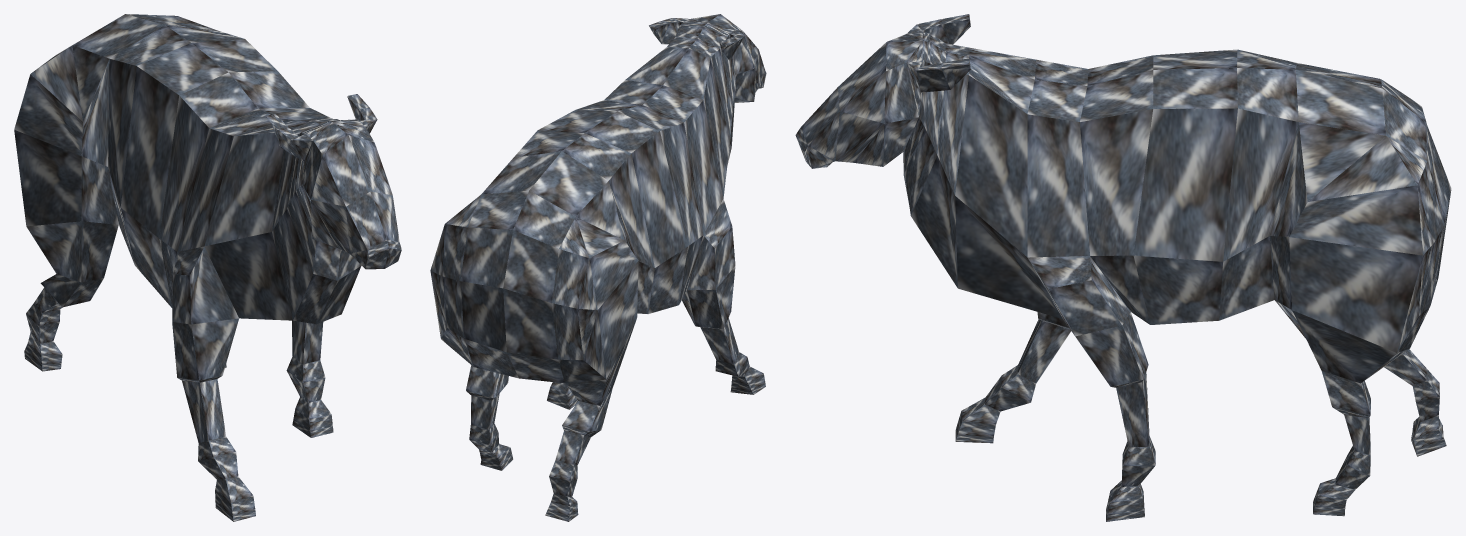
Rendered from SheepIdle_000025.obj.
3 views of the same model, side by side, from view 1: azimuth 30°, elevation 25°; view 2: azimuth 150°, elevation 25°; view 3: azimuth 270°, elevation 25° (orthographic). The views are drawn at different scales.
Parts seen in each view (by area): view 1: Sheep_Cylinder; view 2: Sheep_Cylinder; view 3: Sheep_Cylinder.
Part boxes in pixels (x1,y1,x2,y2): Sheep_Cylinder: [14, 14, 401, 521]; Sheep_Cylinder: [430, 14, 766, 521]; Sheep_Cylinder: [795, 14, 1451, 521].
Bounding box in the file's own units: 2.22 × 4.43 × 5.92.
